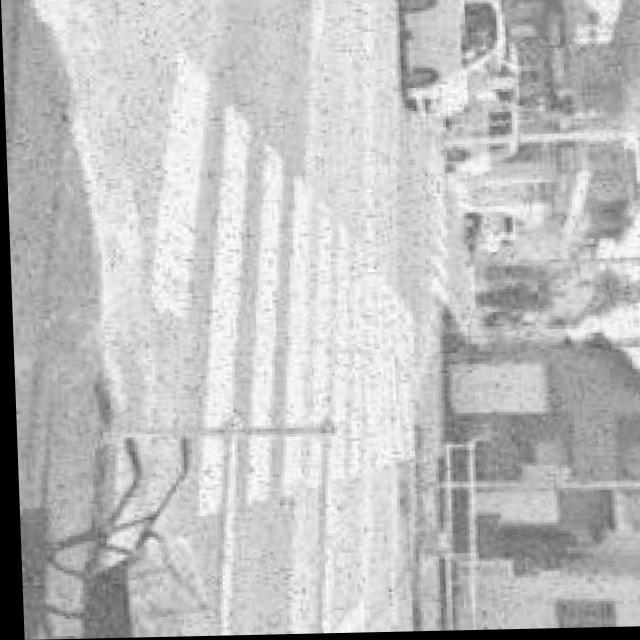zebra: (144, 62, 422, 522), (408, 125, 456, 314)
